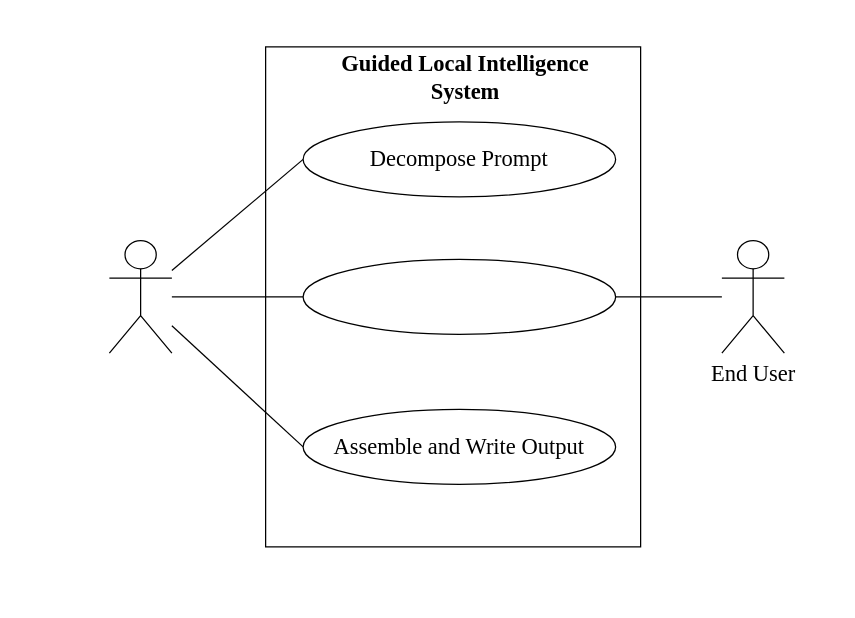
Some shapes in this 855 by 618 pixel diagram are drawn without their labels. Each missing label, with the box of its shape:
Clarify Prompt: (302, 258, 616, 334)
Developer / Admin: (108, 239, 172, 353)
